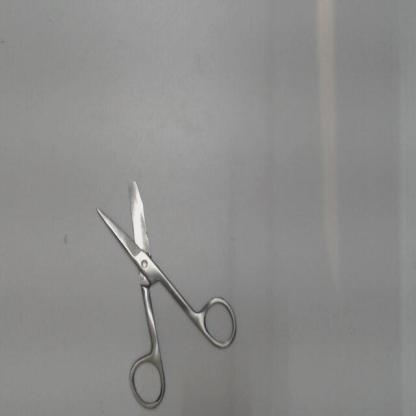Dressing Scissors: (92, 168, 247, 414)
